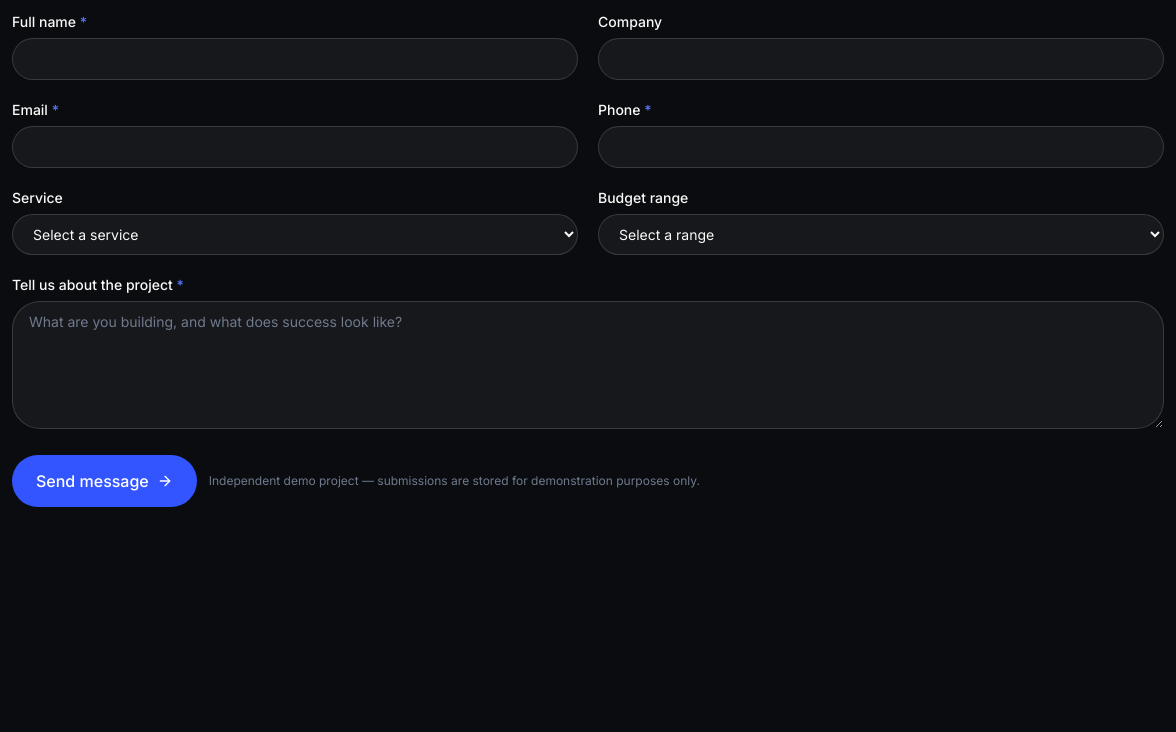
Test: ContactForm › shows field-level validation errors returned by the API
Type "Jordan Rivera" into the field labelled "Full name *" at (295, 59), box x1=12 y1=38 x2=578 y2=80
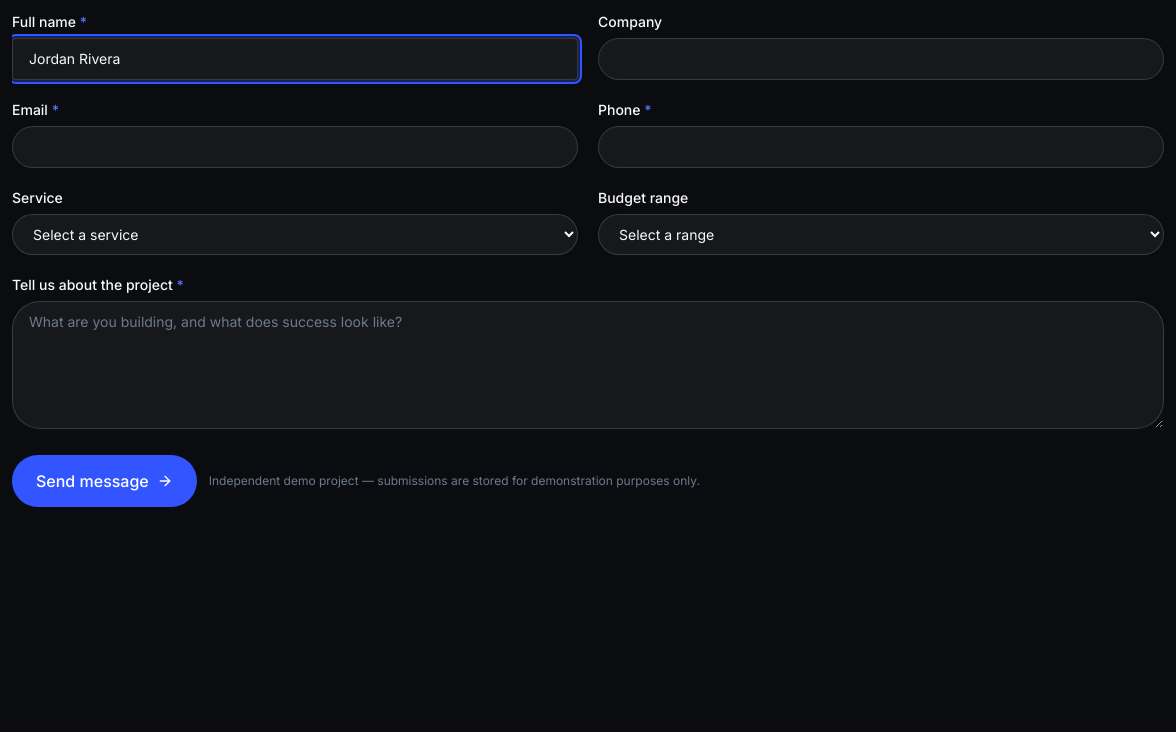
Type "not-an-email" into the field labelled "Email *" at (295, 147), box x1=12 y1=126 x2=578 y2=168
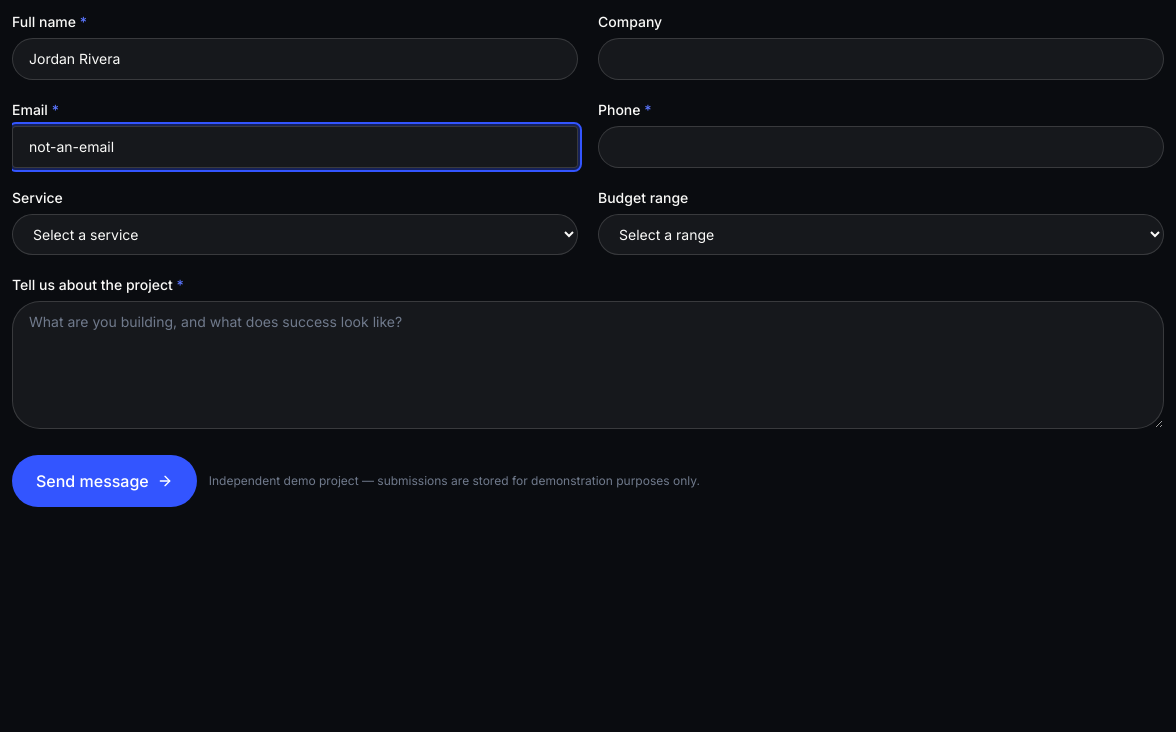
Type "9845123670" into the field labelled "Phone *" at (881, 147), box x1=598 y1=126 x2=1164 y2=168
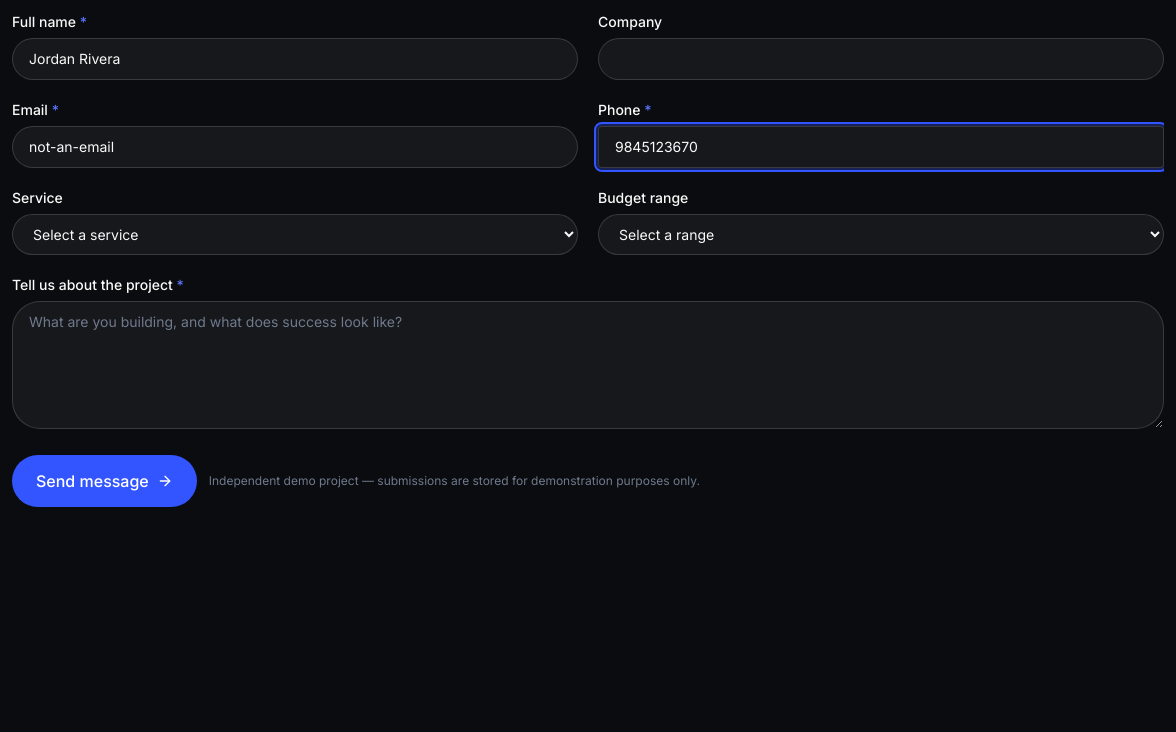
Type "We would like to build a new customer portal." into the text box labelled "Tell us about the project *" at (588, 365), box x1=12 y1=301 x2=1164 y2=429
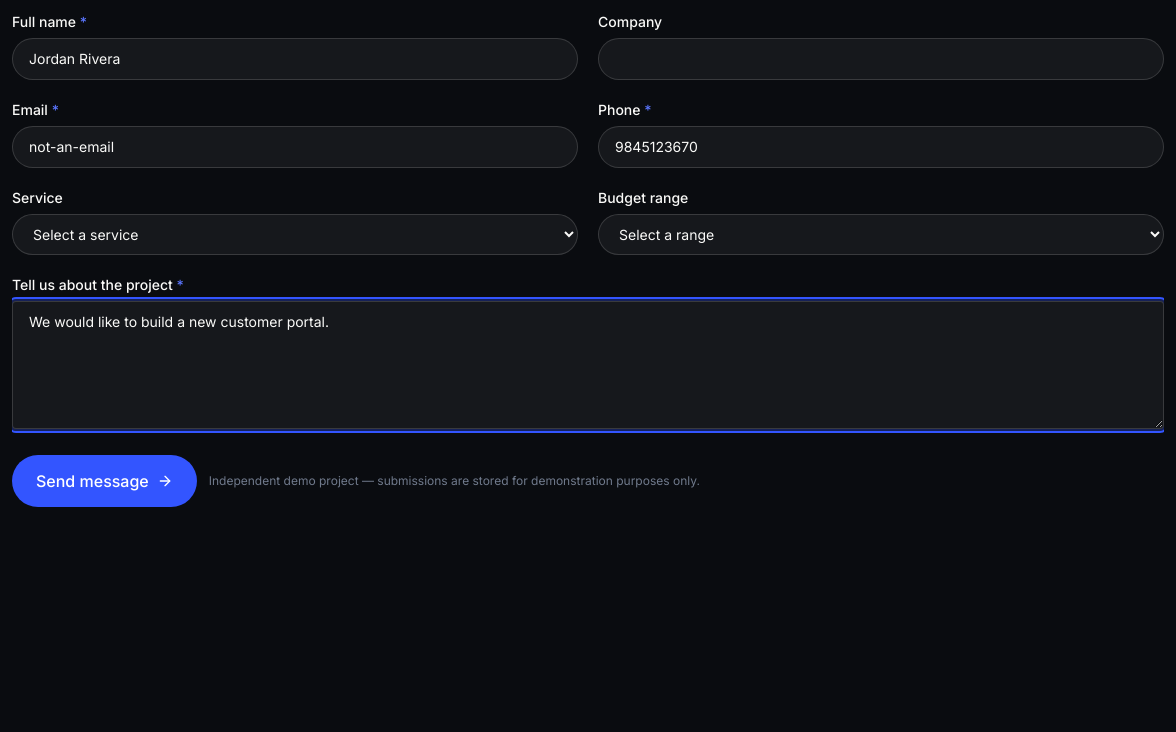
Click the button "Send message" at (104, 481), box x1=12 y1=455 x2=197 y2=507
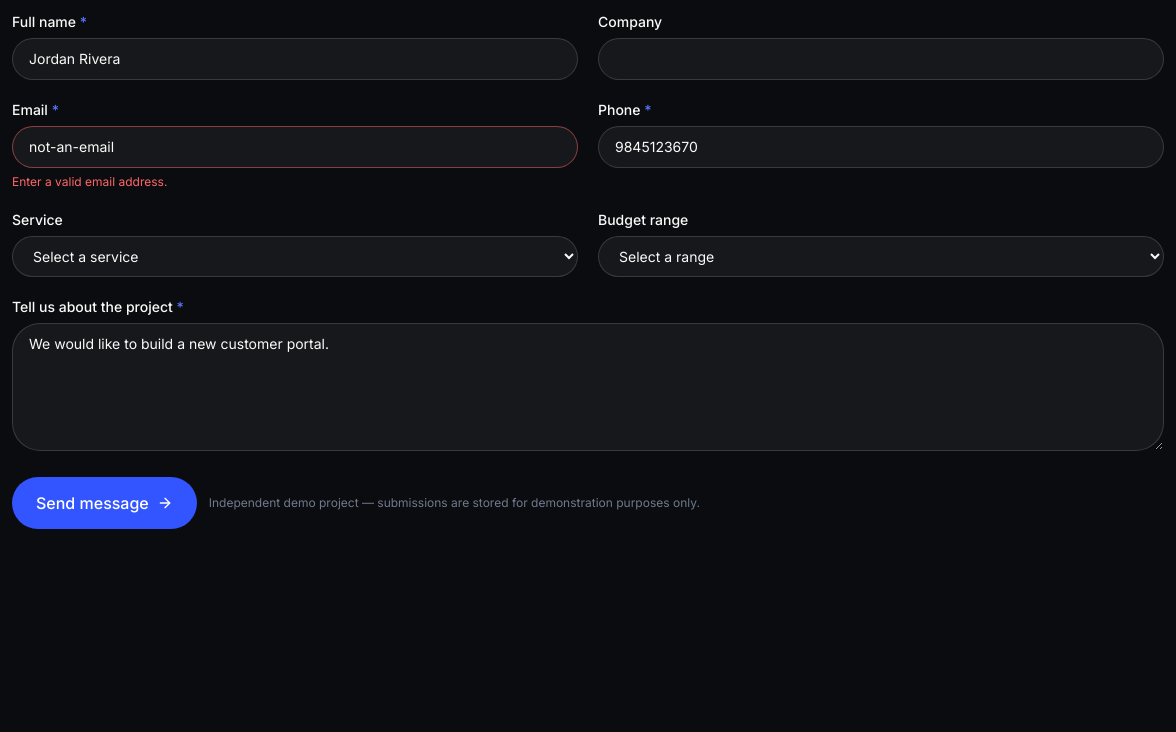
Expected: the text "Enter a valid email address." is shown, x1=12 y1=174 x2=167 y2=189
